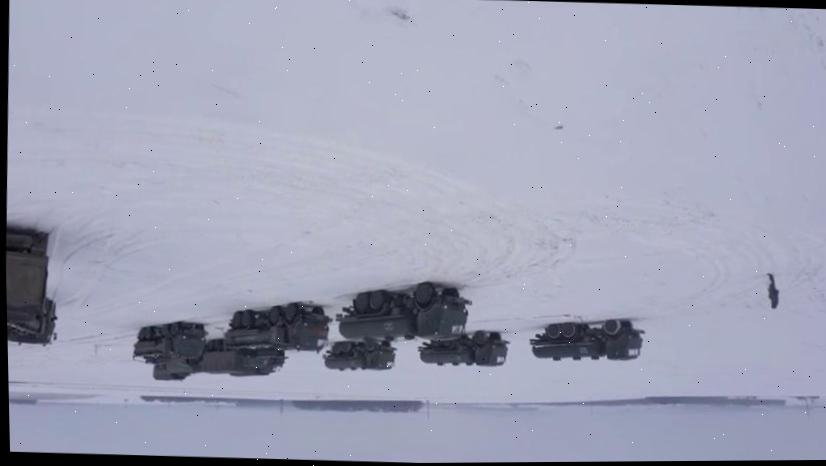person: (761, 271, 780, 310)
truck: (335, 274, 472, 349), (5, 220, 59, 357), (224, 294, 332, 357), (526, 313, 646, 367), (124, 314, 205, 372), (415, 329, 509, 371), (321, 337, 398, 376), (200, 340, 268, 376), (234, 350, 288, 382), (147, 363, 186, 384)
